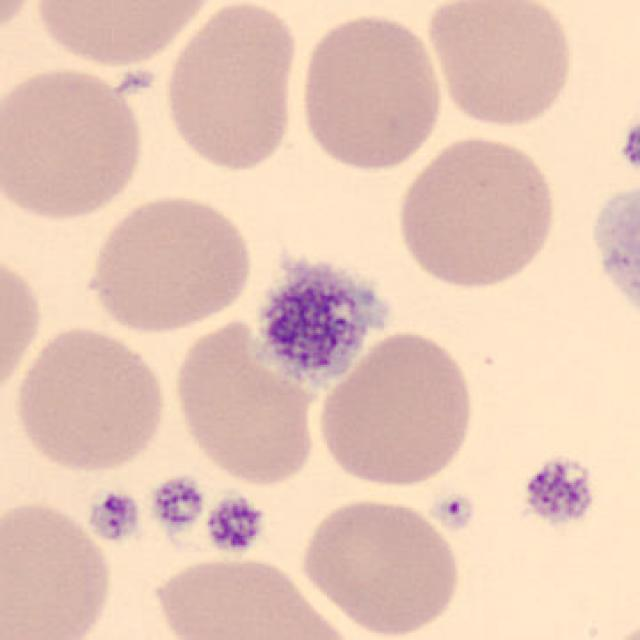Platelets: (253, 250, 391, 395), (519, 451, 599, 529), (202, 494, 266, 557), (150, 474, 207, 532), (87, 488, 142, 543), (615, 116, 640, 176)
RBC: (169, 312, 323, 490), (313, 326, 478, 492), (391, 132, 560, 293), (80, 188, 256, 336), (295, 7, 448, 175), (158, 0, 304, 176), (9, 323, 171, 476), (297, 492, 464, 638), (2, 62, 149, 224), (423, 0, 577, 130), (148, 552, 359, 640), (0, 493, 117, 640), (28, 0, 224, 69), (583, 175, 638, 333), (0, 245, 46, 407), (0, 0, 43, 55), (588, 615, 638, 640)
